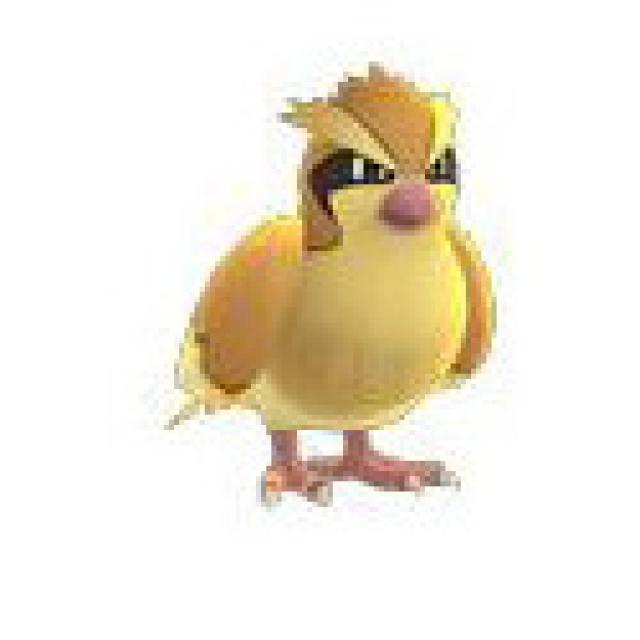Pidgey: (160, 67, 501, 514)
